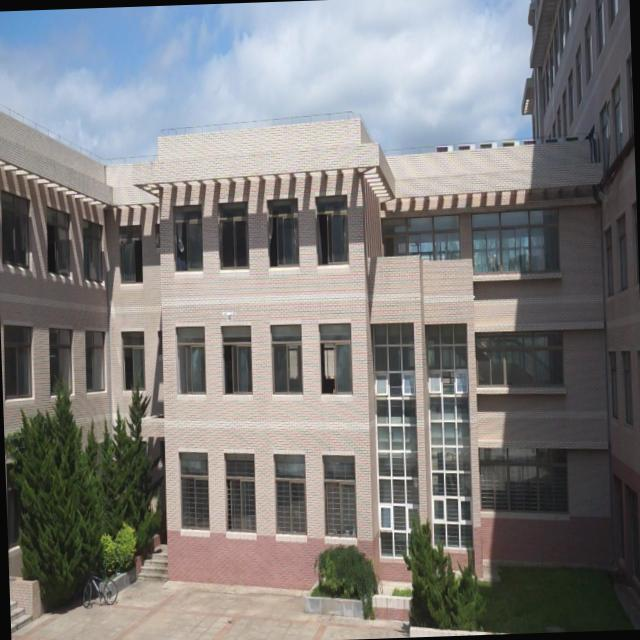drone: (220, 306, 238, 322)
